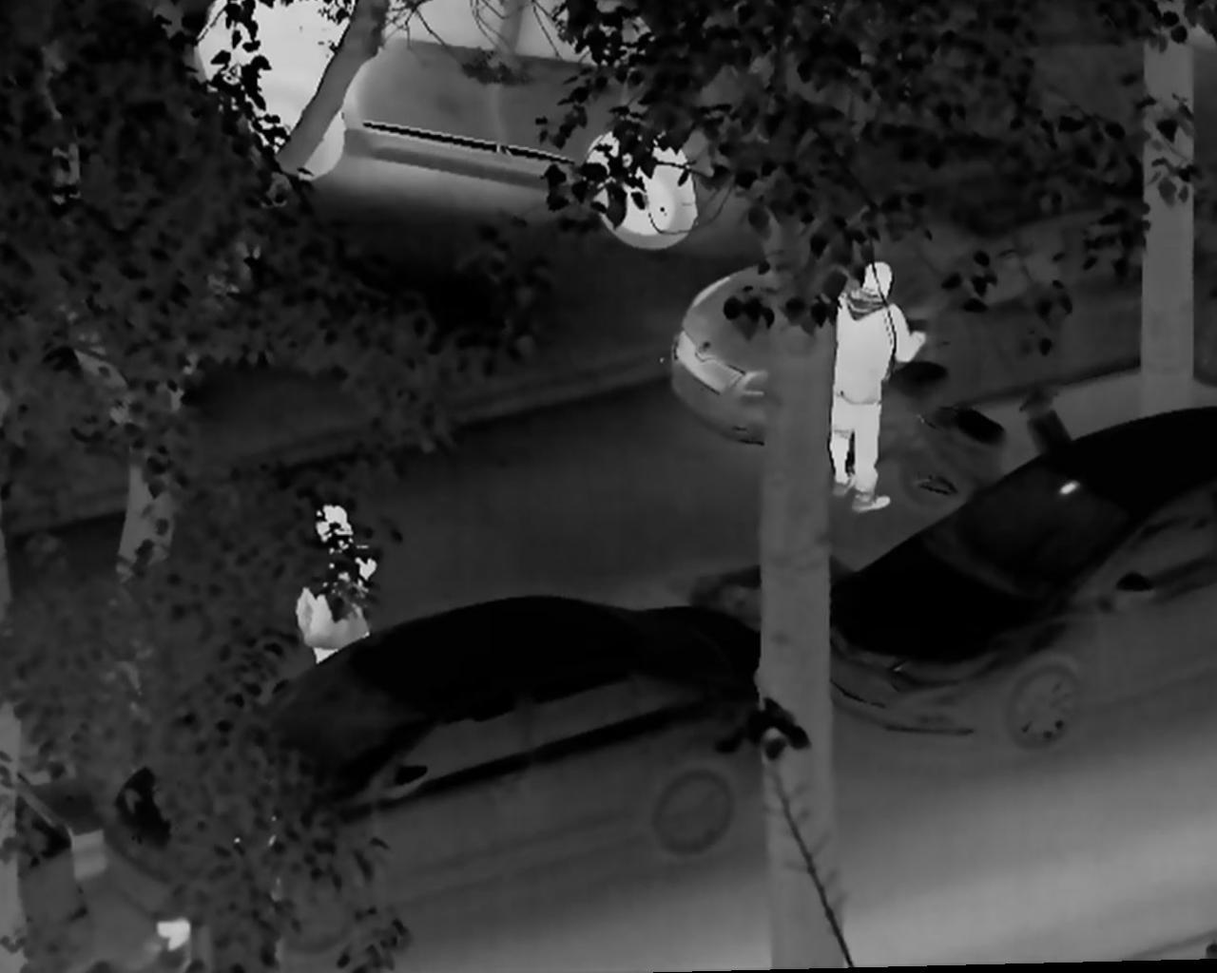person: (826, 258, 928, 519), (286, 503, 381, 674), (119, 894, 207, 973)
